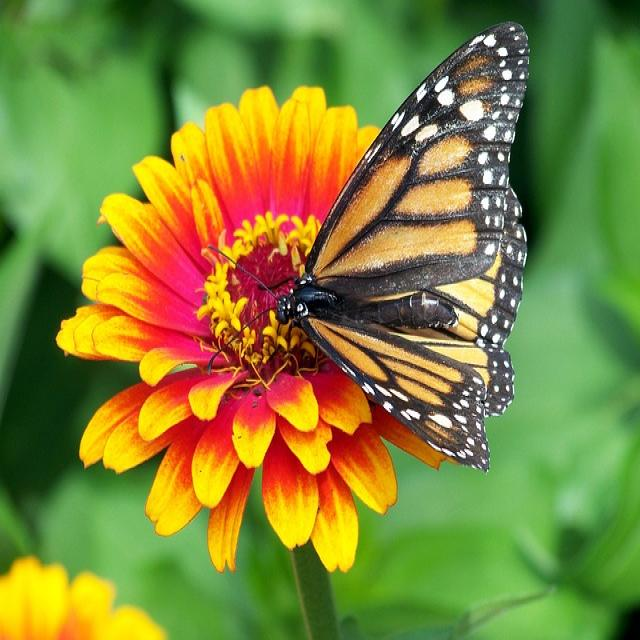butterfly: (280, 23, 529, 469)
